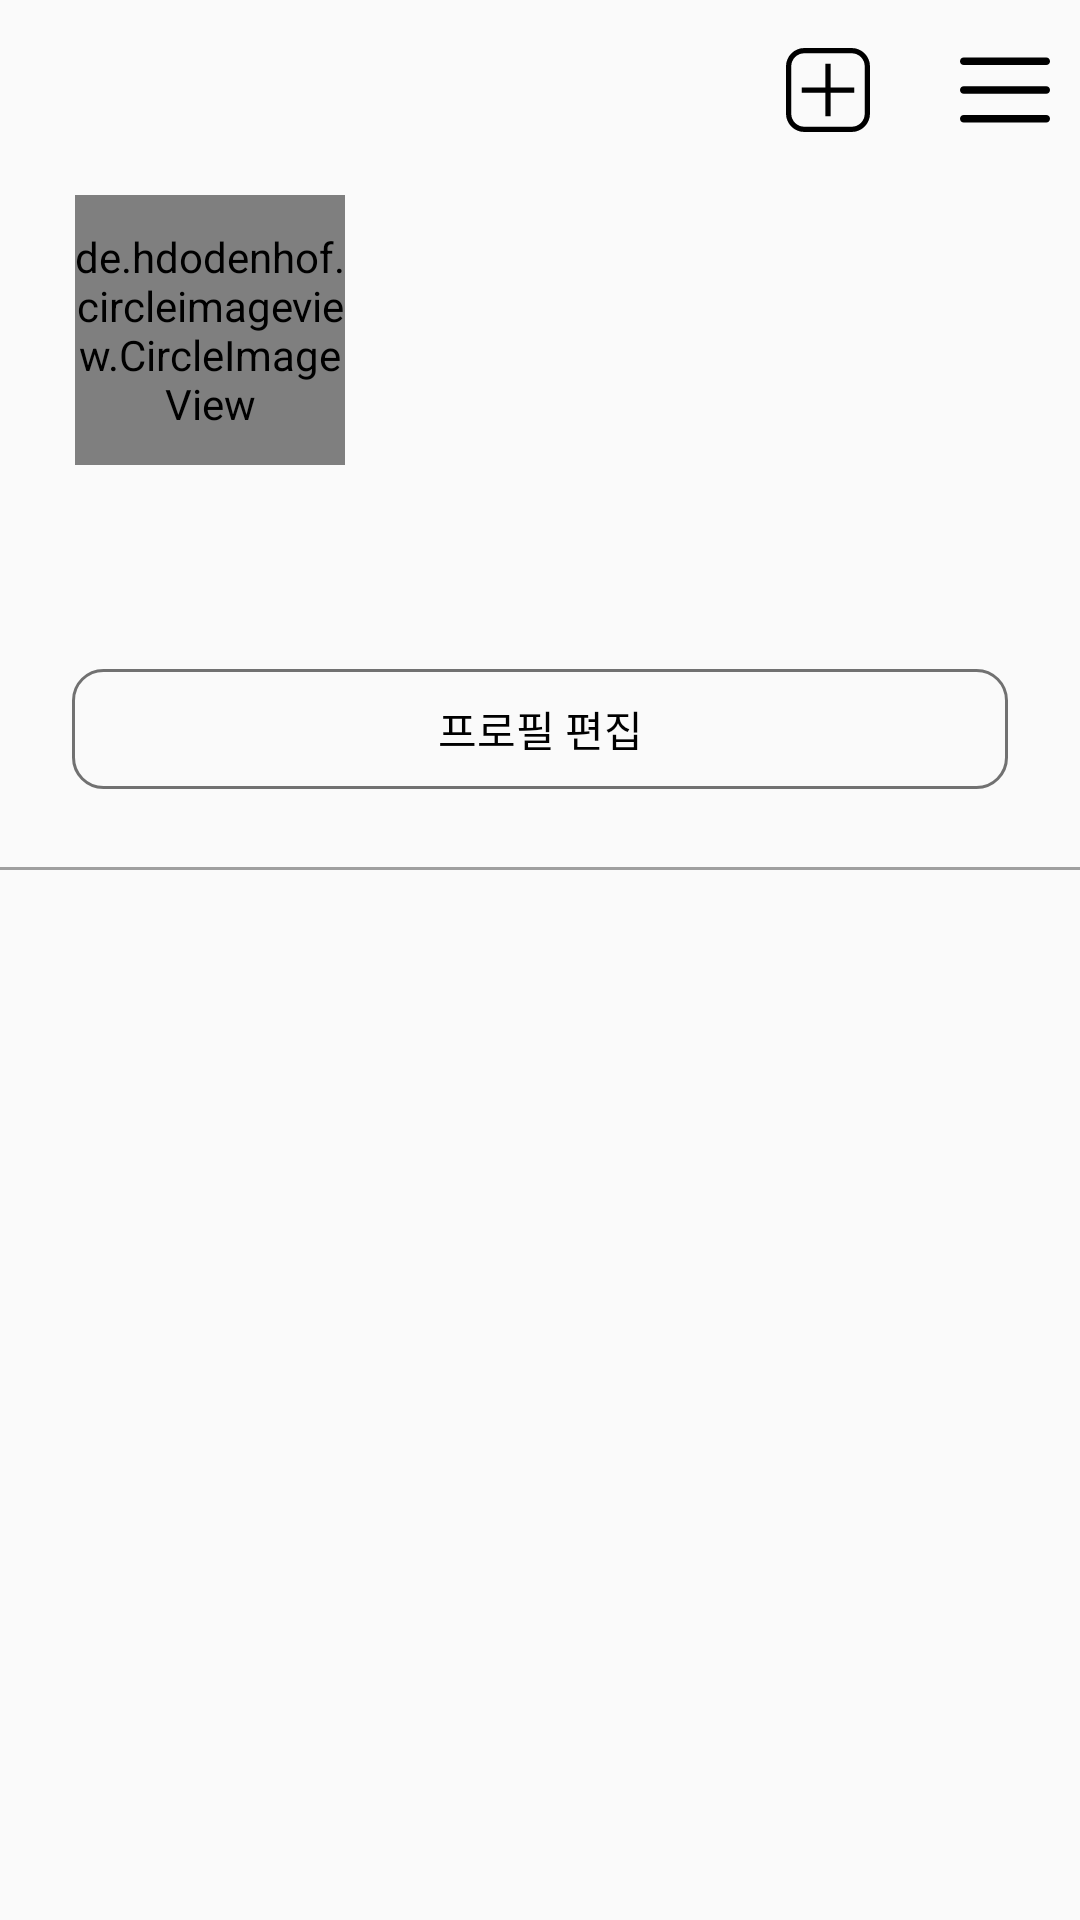

Icon bounding boxes for this 1080*1920 phone screenshot, format (x1,y1,x2,y2):
setting menu: (960,57,1050,123)
